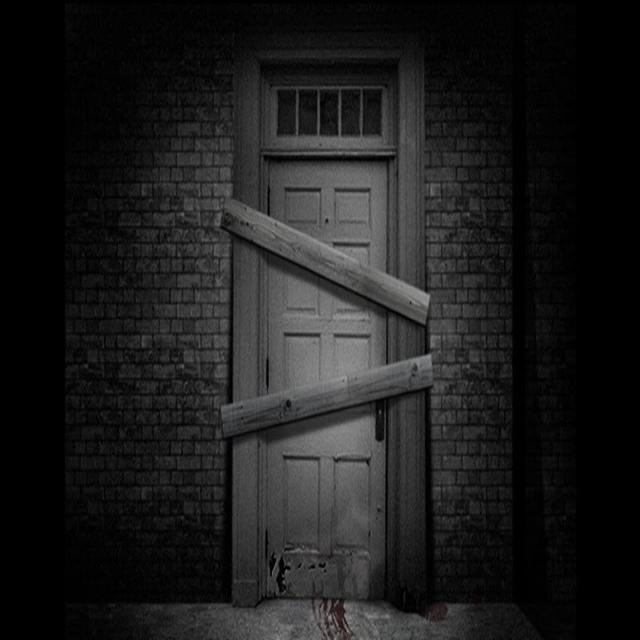close: (271, 164, 389, 606)
